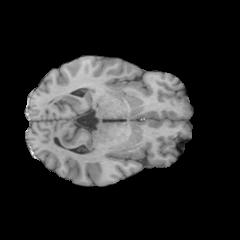glioma: (84, 77, 155, 119)
